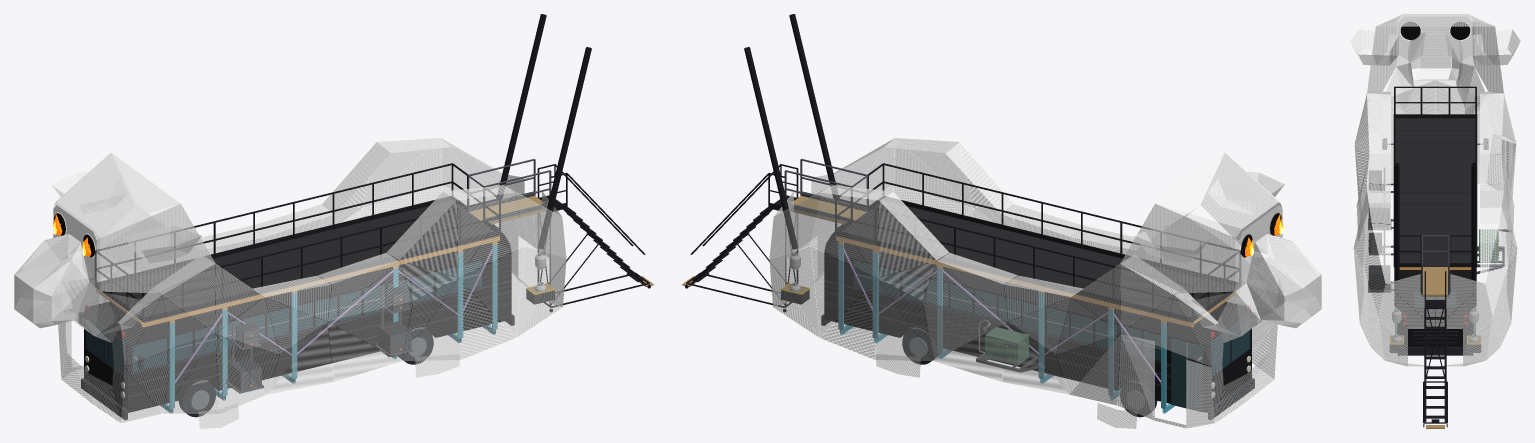
File: baaabs-workshop-v24-six-station.glb
The picture shows the model from 3 angles, left to right: view 1: azimuth 30°, elevation 25°; view 2: azimuth 150°, elevation 25°; view 3: azimuth 270°, elevation 25°; orthographic projection. The views are drawn at different scales.
Parts seen in each view (by area): view 1: Bus__Body_96in_wide, B-D-043 | Driver Skirt 02 a, B-D-038 | Driver Flank 07 b, B-D-036 | Driver Flank 06 b, B-D-047 | Driver Skirt 04 a, B-D-037 | Driver Flank 07 a, B-D-045 | Driver Skirt 03 a, B-D-033 | Driver Flank 05 a, B-D-028 | Driver Flank 02 b, H-D-014 | Driver head side upper, H-D-001 | Driver continuous side, H-D-016 | Driver head side upper · section 2 (+87 smaller); view 2: Bus__Body_96in_wide, B-P-046 | Passenger Flank 07 b, B-P-044 | Passenger Flank 06 b, B-P-055 | Passenger Skirt 04 a, Bus__Entrance_door, B-P-045 | Passenger Flank 07 a, B-P-041 | Passenger Flank 05 a, B-P-036 | Passenger Flank 02 b, H-P-014 | Passenger head side upper, B-P-053 | Passenger Skirt 03 a, H-P-001 | Passenger continuous side, H-P-017 | Passenger head side upper · section 2 (+88 smaller); view 3: Bus__Body_96in_wide, B-P-021 | Passenger Crown 03 a, B-D-013 | Driver Crown 03 a, Bus__Rear_engine_hatch, Dancefloor_section_01, Dancefloor_section_02, Dancefloor_section_03, Dancefloor_section_04, B-D-059 | Driver Rear surround 06 a, B-P-015 | Passenger Rear surround 05 a, Dancefloor_section_06, Dancefloor_section_09 (+109 smaller).
Part boxes in pixels (x1,y1,x2,y2): Bus__Body_96in_wide: (84, 242, 511, 412); B-D-043 | Driver Skirt 02 a: (163, 335, 219, 413); B-D-038 | Driver Flank 07 b: (457, 193, 514, 276); B-D-036 | Driver Flank 06 b: (399, 201, 458, 277); B-D-047 | Driver Skirt 04 a: (268, 322, 333, 393); B-D-037 | Driver Flank 07 a: (459, 194, 524, 277); B-D-045 | Driver Skirt 03 a: (215, 335, 265, 413); B-D-033 | Driver Flank 05 a: (329, 261, 412, 320); B-D-028 | Driver Flank 02 b: (163, 264, 215, 332); H-D-014 | Driver head side upper: (100, 214, 156, 259); H-D-001 | Driver continuous side: (100, 256, 150, 292); H-D-016 | Driver head side upper · section 2: (156, 203, 207, 253); Bus__Body_96in_wide: (824, 242, 1251, 412); B-P-046 | Passenger Flank 07 b: (821, 193, 878, 276); B-P-044 | Passenger Flank 06 b: (877, 201, 936, 277); B-P-055 | Passenger Skirt 04 a: (1002, 322, 1067, 393); Bus__Entrance_door: (1171, 339, 1202, 411); B-P-045 | Passenger Flank 07 a: (811, 194, 876, 277); B-P-041 | Passenger Flank 05 a: (923, 261, 1006, 320); B-P-036 | Passenger Flank 02 b: (1120, 264, 1172, 332); H-P-014 | Passenger head side upper: (1179, 214, 1235, 259); B-P-053 | Passenger Skirt 03 a: (1069, 334, 1120, 405); H-P-001 | Passenger continuous side: (1185, 256, 1235, 292); H-P-017 | Passenger head side upper · section 2: (1128, 203, 1179, 253); Bus__Body_96in_wide: (1397, 270, 1473, 346); B-P-021 | Passenger Crown 03 a: (1480, 93, 1503, 154); B-D-013 | Driver Crown 03 a: (1367, 93, 1390, 154); Bus__Rear_engine_hatch: (1408, 321, 1462, 346); Dancefloor_section_01: (1393, 118, 1477, 130); Dancefloor_section_02: (1393, 130, 1477, 142); Dancefloor_section_03: (1393, 143, 1477, 155); Dancefloor_section_04: (1393, 155, 1477, 167); B-D-059 | Driver Rear surround 06 a: (1386, 274, 1435, 326); B-P-015 | Passenger Rear surround 05 a: (1435, 274, 1484, 326); Dancefloor_section_06: (1393, 180, 1477, 192); Dancefloor_section_09: (1393, 217, 1477, 229).
Bounding box in the file's own units: 19.95 × 8.42 × 5.52.
Materials: 238 (206 with a texture image).
